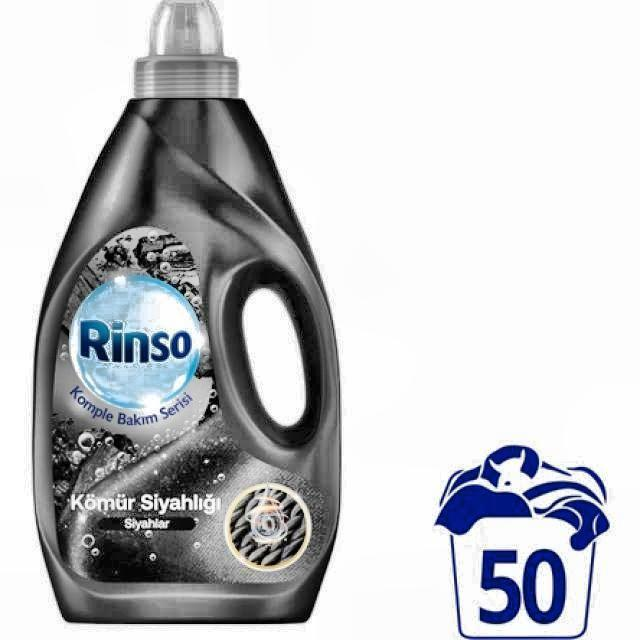plastic: (29, 0, 345, 629)
